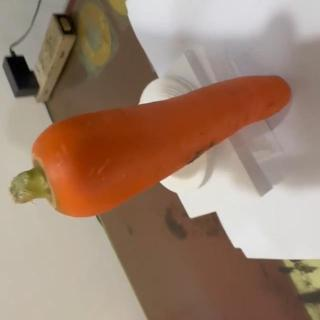carrot: (10, 73, 290, 218)
